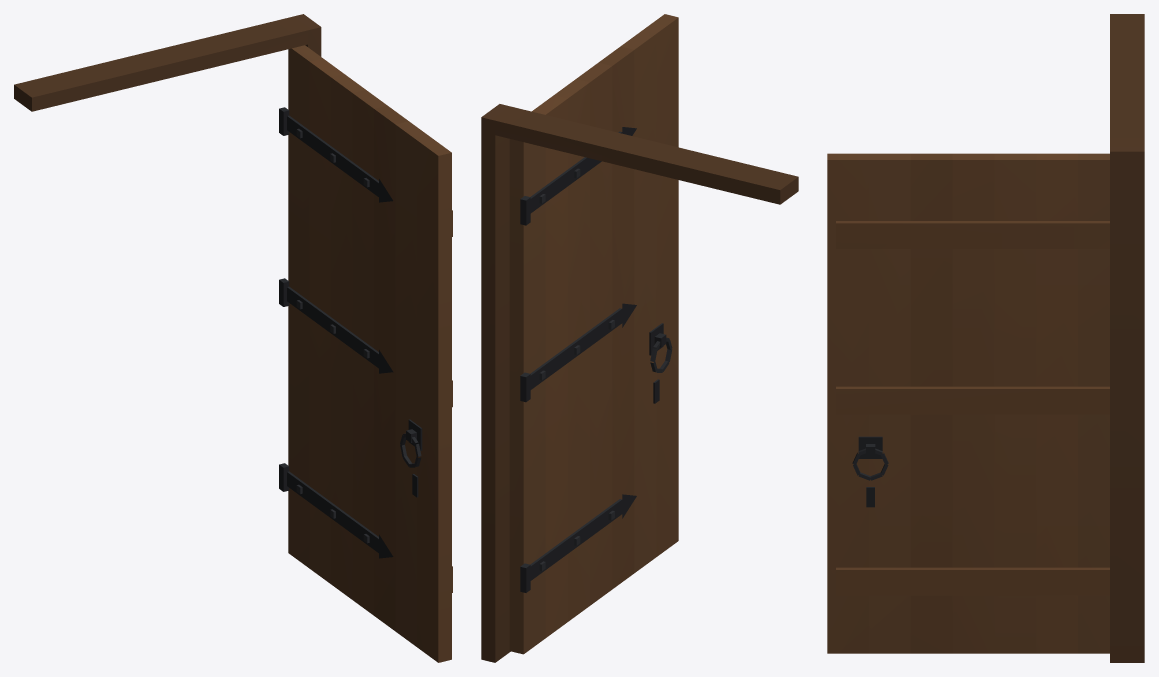
The model's file is door.oak_slim_open_pair_left.oak.glb.
3 renders of one model, left to right at view 1: azimuth 30°, elevation 25°; view 2: azimuth 150°, elevation 25°; view 3: azimuth 270°, elevation 25°, orthographic. The views are drawn at different scales.
Visible parts, largest first — view 1: door_oak_slim_open_pair_left_oak; view 2: door_oak_slim_open_pair_left_oak; view 3: door_oak_slim_open_pair_left_oak.
Part boxes in pixels (x1,y1,x2,y2): door_oak_slim_open_pair_left_oak: [14, 14, 452, 662]; door_oak_slim_open_pair_left_oak: [481, 14, 798, 662]; door_oak_slim_open_pair_left_oak: [827, 14, 1144, 662].
Size of what is drawn, in the model's own units: 1.5 by 2.6 by 1.46.
